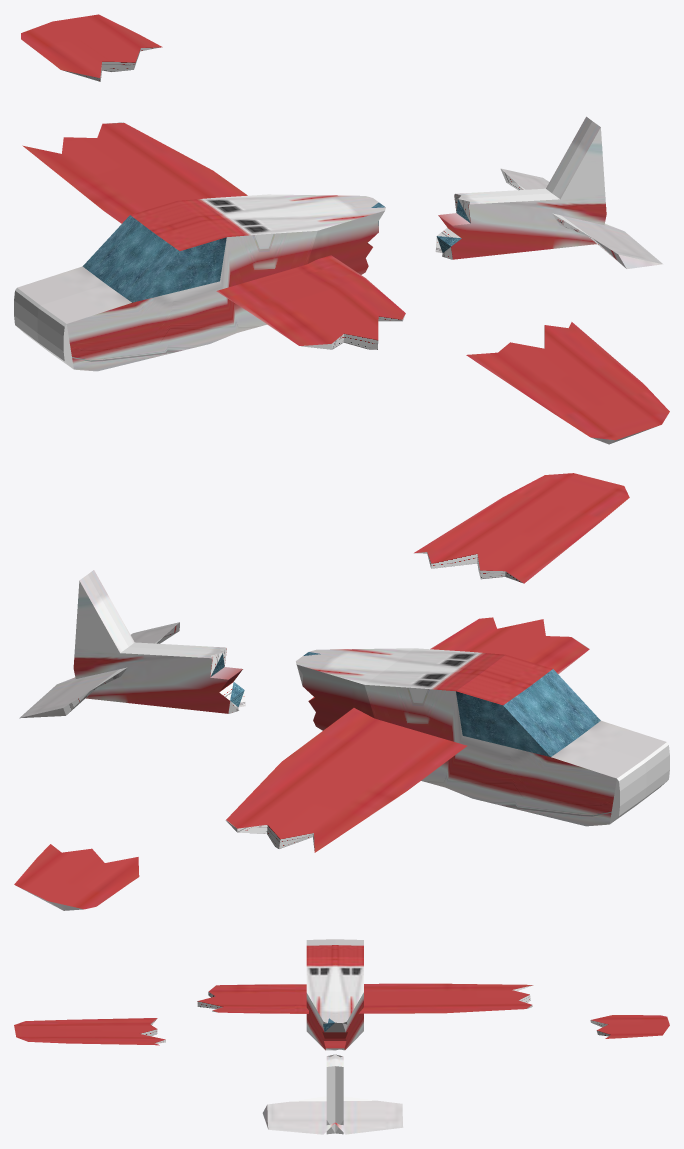
File: crashed plane.fbx
The picture shows the model from 3 angles, top to bottom: view 1: azimuth 30°, elevation 25°; view 2: azimuth 150°, elevation 25°; view 3: azimuth 270°, elevation 25°; orthographic projection. The views are drawn at different scales.
Visible parts, largest first — view 1: Plane.002, tail wing, broken wing 2, Plane.004, broken wing, plane.001; view 2: Plane.002, tail wing, broken wing 2, Plane.004, broken wing, plane.001; view 3: tail wing, Plane.002, plane.001, broken wing 2, broken wing, Plane.004.
Part boxes in pixels (left/top/right/bottom): Plane.002: left=14, top=194, right=385, bottom=371; tail wing: left=22, top=122, right=405, bottom=349; broken wing 2: left=466, top=322, right=669, bottom=444; Plane.004: left=435, top=116, right=606, bottom=259; broken wing: left=21, top=14, right=162, bottom=81; plane.001: left=500, top=168, right=662, bottom=268; Plane.002: left=296, top=648, right=669, bottom=826; tail wing: left=225, top=617, right=589, bottom=852; broken wing 2: left=414, top=473, right=629, bottom=583; Plane.004: left=73, top=570, right=245, bottom=713; broken wing: left=14, top=844, right=139, bottom=910; plane.001: left=19, top=622, right=179, bottom=718; tail wing: left=197, top=983, right=533, bottom=1013; Plane.002: left=306, top=939, right=363, bottom=1050; plane.001: left=262, top=1096, right=403, bottom=1134; broken wing 2: left=14, top=1018, right=165, bottom=1045; broken wing: left=590, top=1015, right=669, bottom=1038; Plane.004: left=326, top=1054, right=343, bottom=1134.
Bounding box in the file's own units: 296 × 57.6 × 504.
2 materials, 2 textured.
